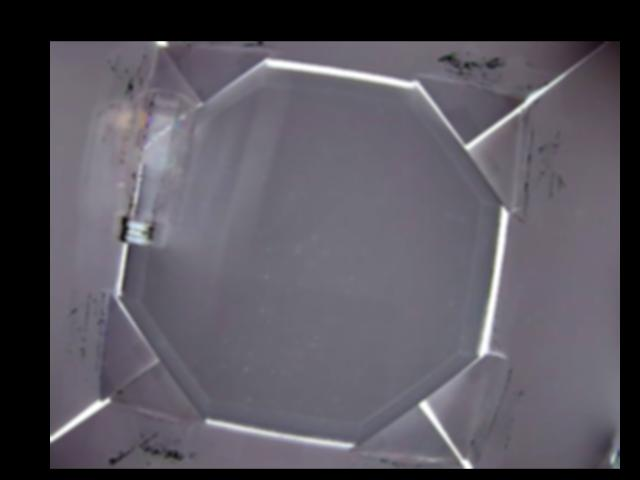Bottle: (115, 89, 199, 249)
